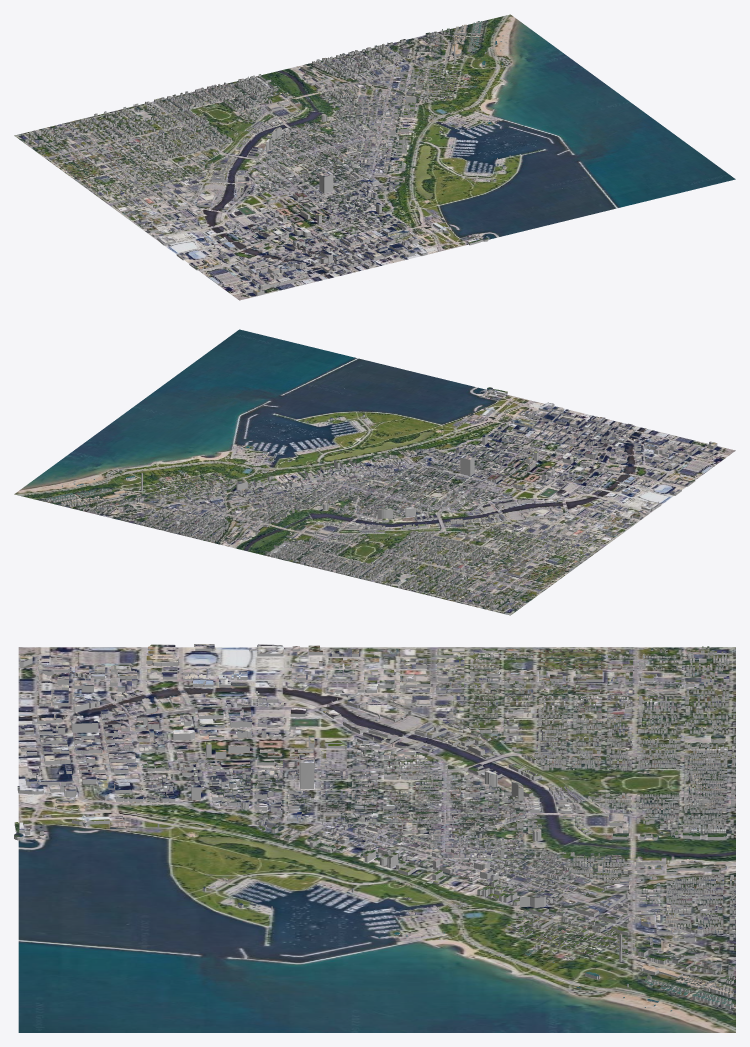
Rendered from MkeMapCleanerApplyCompressed.glb.
3 views of the same model, one above another, from view 1: azimuth 30°, elevation 25°; view 2: azimuth 150°, elevation 25°; view 3: azimuth 270°, elevation 25° (orthographic). The views are drawn at different scales.
Parts seen in each view (by area): view 1: EXPORT_GOOGLE_SAT_WM, Areas:building; view 2: EXPORT_GOOGLE_SAT_WM, Areas:building; view 3: EXPORT_GOOGLE_SAT_WM, Areas:building.
Part boxes in pixels (<box>): EXPORT_GOOGLE_SAT_WM: <box>14,14,735,300</box>; Areas:building: <box>25,21,510,295</box>; EXPORT_GOOGLE_SAT_WM: <box>14,329,735,615</box>; Areas:building: <box>46,387,717,610</box>; EXPORT_GOOGLE_SAT_WM: <box>18,647,735,1032</box>; Areas:building: <box>14,644,735,1011</box>.
Size of the model in its own units: 436 by 14.39 by 344.
Materials: 3 (2 with a texture image).
